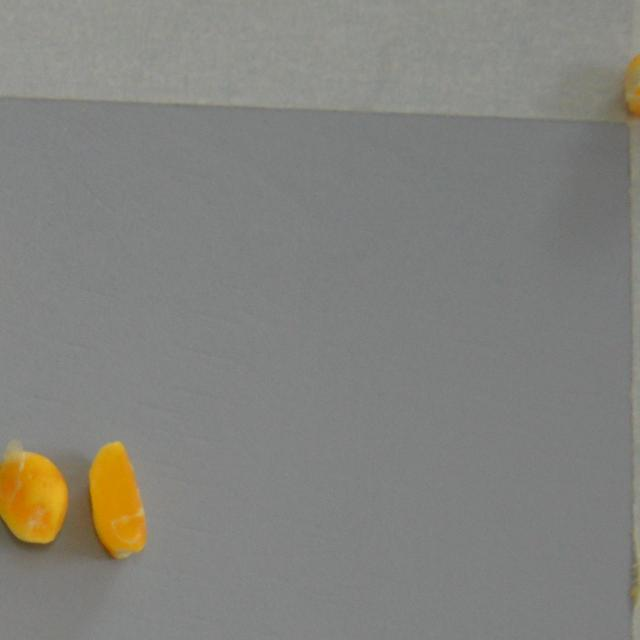pelicula: (86, 436, 146, 562), (0, 438, 66, 550)
